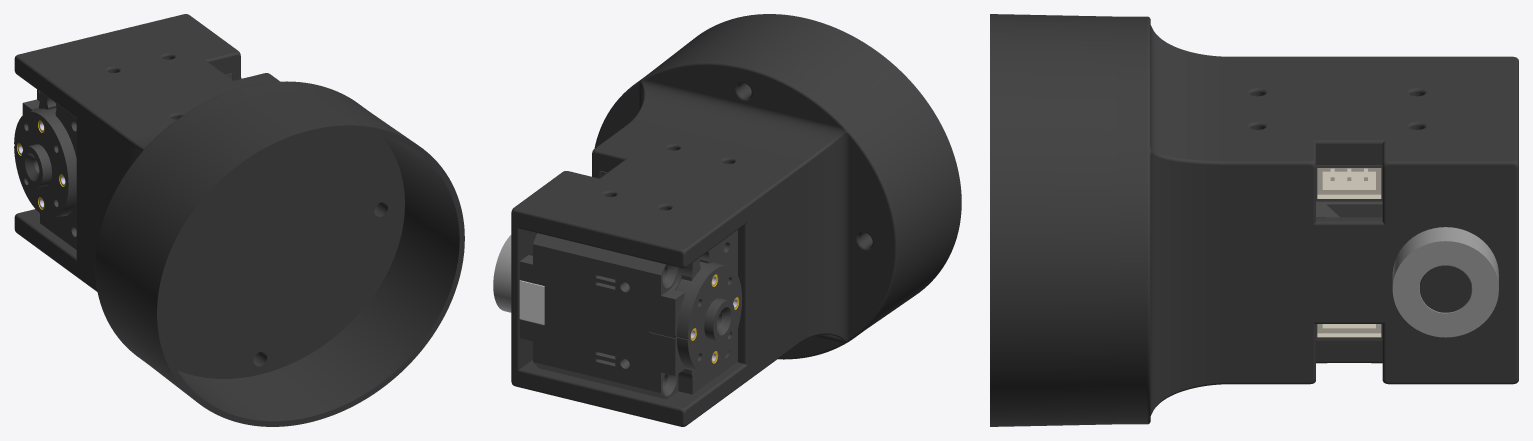
File: left_wrs_upp_link.dae
3 views of the same model, side by side, from view 1: azimuth 30°, elevation 25°; view 2: azimuth 150°, elevation 25°; view 3: azimuth 270°, elevation 25° (orthographic). The views are drawn at different scales.
Parts seen in each view (by area): view 1: left_wrs_upp_link; view 2: left_wrs_upp_link; view 3: left_wrs_upp_link.
Part boxes in pixels (x1,y1,x2,y2): left_wrs_upp_link: (14, 14, 464, 426); left_wrs_upp_link: (493, 14, 961, 426); left_wrs_upp_link: (990, 14, 1518, 426).
Size of the model in its own units: 0.0672 by 0.0795 by 0.061.
